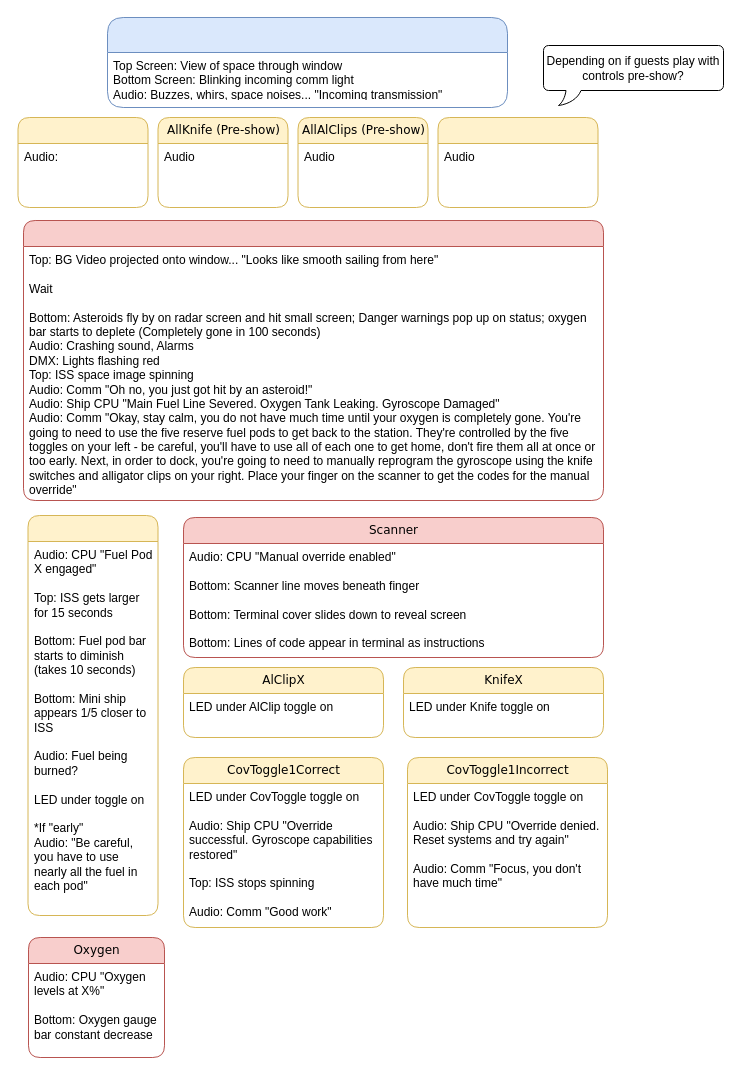
This 741x1075 diagram has some shape labels left out. Here are the shapes that lost their labels. From the top down, the box of each, then its label:
(106, 16, 508, 108): Experience Begins
(17, 116, 148, 208): AllToggle (Pre-show)
(437, 116, 598, 208): AllCovToggle (Pre-show)
(22, 220, 604, 500): AcceptComm
(27, 514, 158, 916): ToggleX
